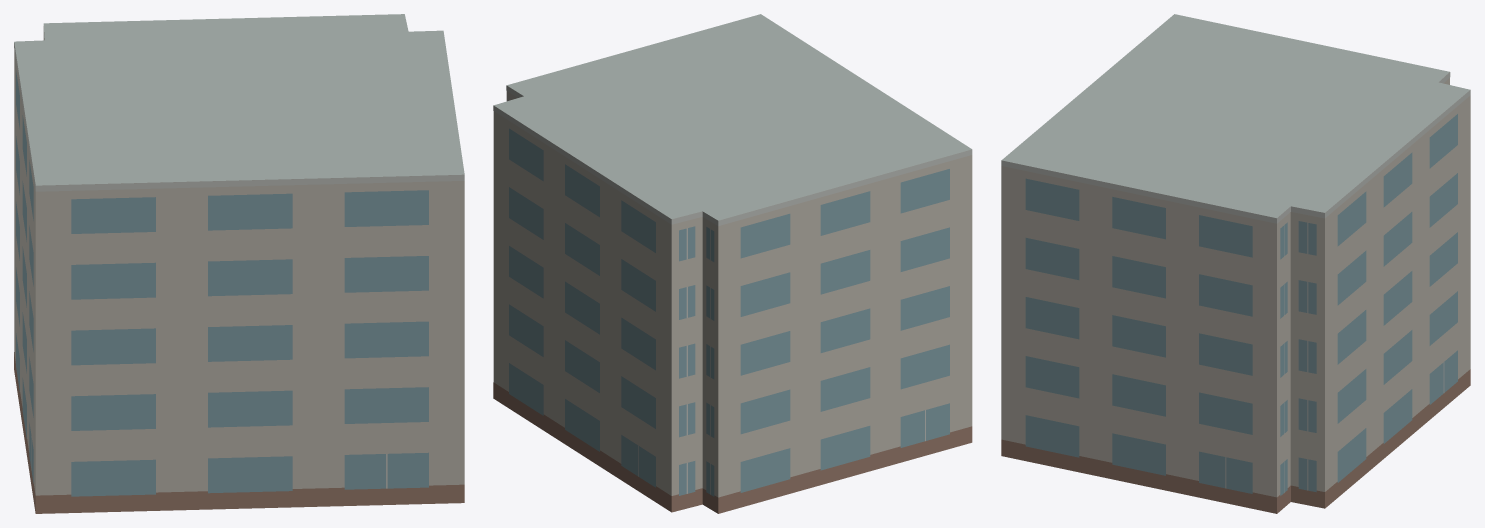
File: survey-upis-32890131.glb
3 renders of one model, left to right at view 1: azimuth 30°, elevation 25°; view 2: azimuth 150°, elevation 25°; view 3: azimuth 270°, elevation 25°, orthographic. The views are drawn at different scales.
Visible parts, largest first — view 1: survey-upis-32890131.tmp; view 2: survey-upis-32890131.tmp; view 3: survey-upis-32890131.tmp.
Part boxes in pixels (<box>): survey-upis-32890131.tmp: <box>14,14,464,513</box>; survey-upis-32890131.tmp: <box>493,14,972,513</box>; survey-upis-32890131.tmp: <box>1001,14,1470,513</box>.
Bounding box in the file's own units: 19.42 × 13.1 × 18.85.
